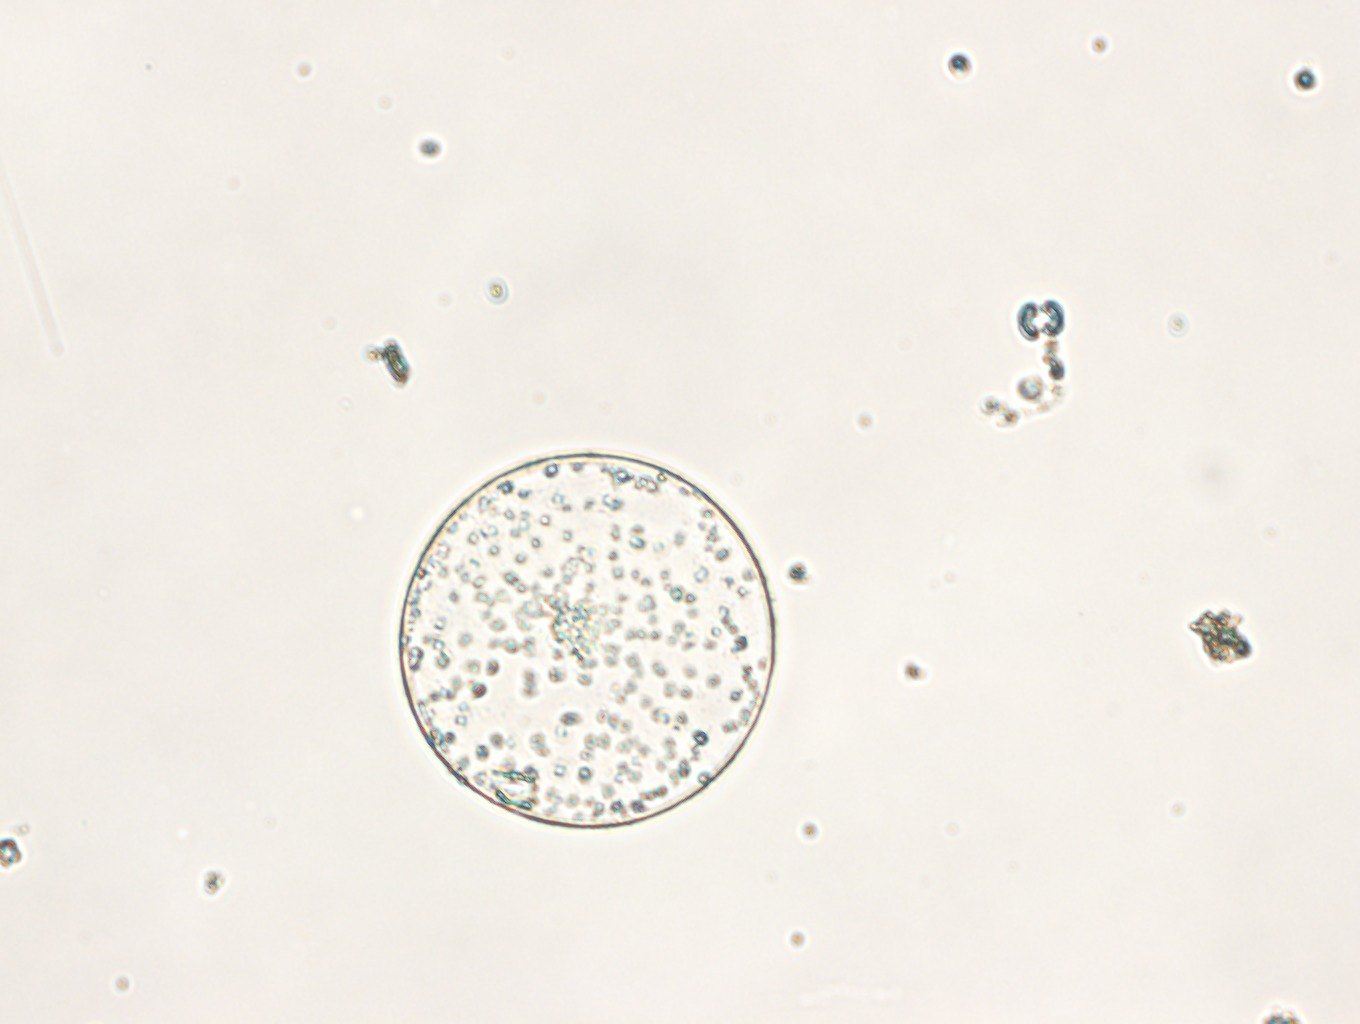coscinodiscus: (398, 451, 776, 833)
